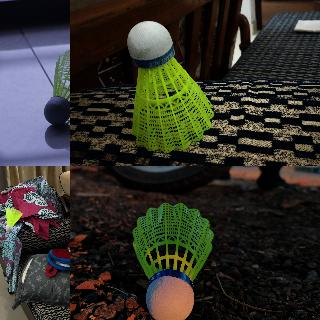shuttlecock: (126, 20, 214, 152), (132, 202, 215, 319), (43, 48, 69, 125), (6, 208, 22, 232)
